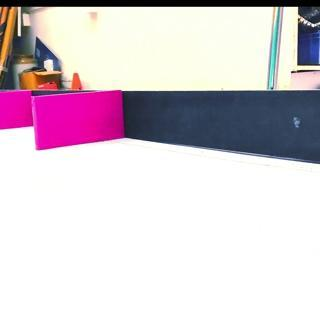xparking: (31, 90, 124, 144), (0, 89, 30, 130)
